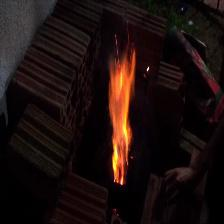fire: (103, 44, 142, 191)
